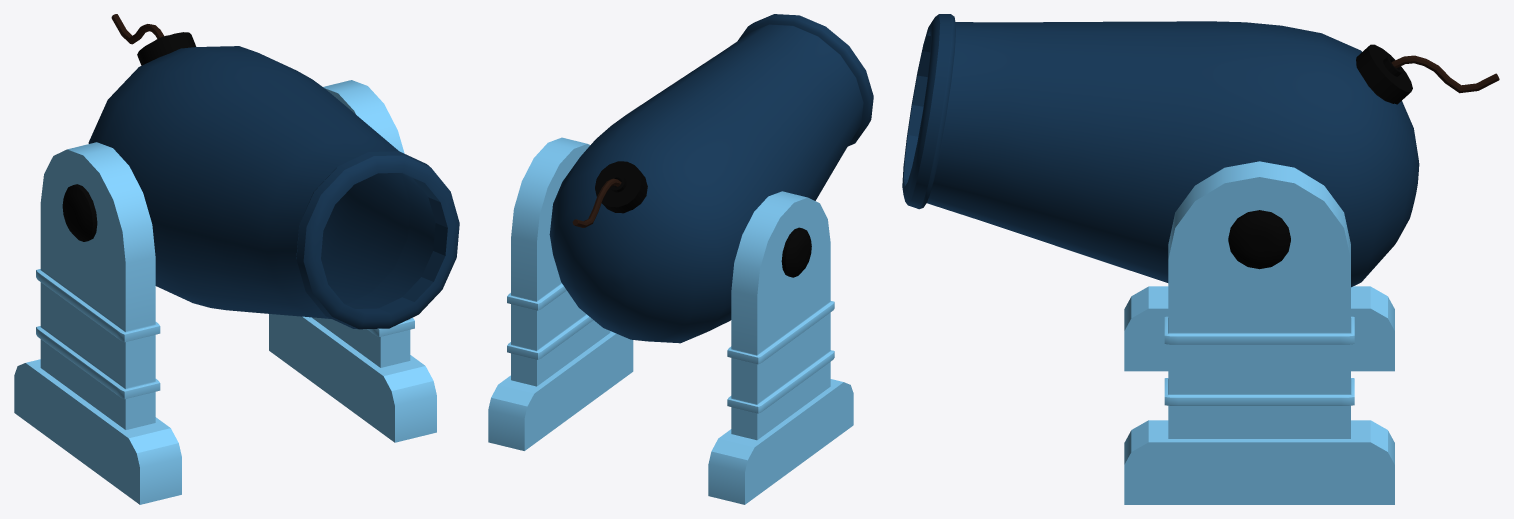
The model's file is cartoon_cannon_A_FBX.FBX.
The picture shows the model from 3 angles, left to right: view 1: azimuth 30°, elevation 25°; view 2: azimuth 150°, elevation 25°; view 3: azimuth 270°, elevation 25°; orthographic projection. The views are drawn at different scales.
Visible parts, largest first — view 1: cartoon_cannon_A_main, cartoon_cannon_A_stand_left, cartoon_cannon_A_stand_right, cartoon_cannon_A_bolt_left, cartoon_cannon_A_wick_support, cartoon_cannon_A_wick; view 2: cartoon_cannon_A_main, cartoon_cannon_A_stand_left, cartoon_cannon_A_stand_right, cartoon_cannon_A_wick_support, cartoon_cannon_A_bolt_left, cartoon_cannon_A_wick; view 3: cartoon_cannon_A_main, cartoon_cannon_A_stand_right, cartoon_cannon_A_stand_left, cartoon_cannon_A_bolt_right, cartoon_cannon_A_wick_support, cartoon_cannon_A_wick.
Boxes of the visible parts, box(x1,y1,x2,y2) form: cartoon_cannon_A_main: box(88, 46, 459, 329); cartoon_cannon_A_stand_left: box(14, 142, 181, 504); cartoon_cannon_A_stand_right: box(269, 80, 436, 442); cartoon_cannon_A_bolt_left: box(62, 184, 97, 241); cartoon_cannon_A_wick_support: box(137, 32, 196, 65); cartoon_cannon_A_wick: box(111, 14, 163, 44); cartoon_cannon_A_main: box(549, 14, 873, 343); cartoon_cannon_A_stand_left: box(708, 191, 853, 504); cartoon_cannon_A_stand_right: box(488, 137, 633, 450); cartoon_cannon_A_wick_support: box(595, 161, 647, 213); cartoon_cannon_A_bolt_left: box(781, 227, 811, 277); cartoon_cannon_A_wick: box(572, 178, 621, 227); cartoon_cannon_A_main: box(902, 14, 1419, 287); cartoon_cannon_A_stand_right: box(1124, 161, 1394, 504); cartoon_cannon_A_stand_left: box(1124, 286, 1394, 371); cartoon_cannon_A_bolt_right: box(1228, 210, 1290, 269); cartoon_cannon_A_wick_support: box(1356, 44, 1412, 104); cartoon_cannon_A_wick: box(1391, 55, 1499, 93).
Size of the model in its own units: 73.27 by 85.23 by 114.
